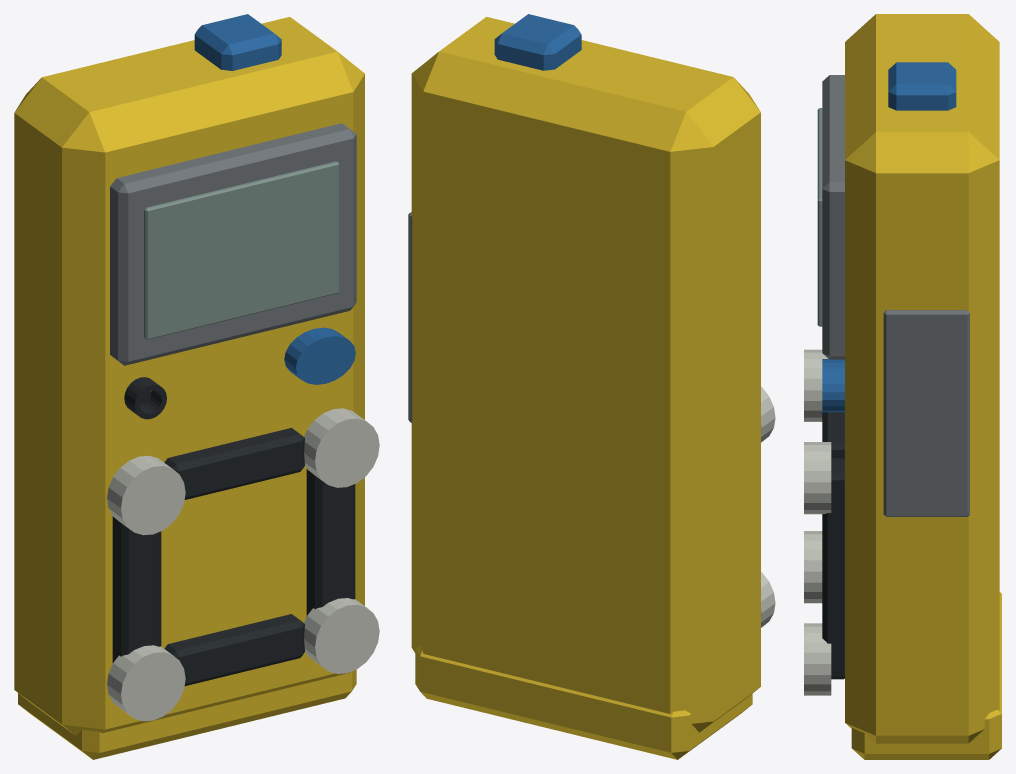
File: full.glb
The picture shows the model from 3 angles, left to right: view 1: azimuth 30°, elevation 25°; view 2: azimuth 150°, elevation 25°; view 3: azimuth 270°, elevation 25°; orthographic projection. The views are drawn at different scales.
Visible parts, largest first — view 1: Detector main shell, Inset blank LCD, Gray display bezel, Bottom bumper, Lower surround side 1, Lower surround side -1, Interrupted surround cross 0.019, Interrupted surround cross 0.063, Pale circular sensor cover 2, Pale circular sensor cover 3, Pale circular sensor cover 0, Pale circular sensor cover 1 (+3 smaller); view 2: Detector main shell, Bottom bumper, Small blue top projection, Narrow side inset; view 3: Detector main shell, Narrow side inset, Gray display bezel, Lower surround side 1, Bottom bumper, Small blue top projection, Pale circular sensor cover 3, Pale circular sensor cover 1, Pale circular sensor cover 2, Pale circular sensor cover 0, Inset blank LCD, Blue oval button (+1 smaller).
Boxes of the visible parts, left/top/right/bottom form: Detector main shell: left=14, top=17, right=364, bottom=735; Inset blank LCD: left=144, top=161, right=339, bottom=339; Gray display bezel: left=110, top=123, right=356, bottom=365; Bottom bumper: left=18, top=669, right=356, bottom=759; Lower surround side 1: left=306, top=469, right=355, bottom=616; Lower surround side -1: left=112, top=516, right=161, bottom=663; Interrupted surround cross 0.019: left=164, top=614, right=304, bottom=685; Interrupted surround cross 0.063: left=164, top=428, right=304, bottom=499; Pale circular sensor cover 2: left=107, top=455, right=185, bottom=535; Pale circular sensor cover 3: left=304, top=408, right=379, bottom=487; Pale circular sensor cover 0: left=107, top=645, right=185, bottom=721; Pale circular sensor cover 1: left=304, top=598, right=379, bottom=673; Detector main shell: left=411, top=16, right=760, bottom=732; Bottom bumper: left=415, top=645, right=752, bottom=759; Small blue top projection: left=494, top=14, right=581, bottom=70; Narrow side inset: left=408, top=212, right=412, bottom=422; Detector main shell: left=845, top=14, right=999, bottom=743; Narrow side inset: left=883, top=310, right=969, bottom=516; Gray display bezel: left=822, top=75, right=844, bottom=359; Lower surround side 1: left=822, top=458, right=844, bottom=679; Bottom bumper: left=851, top=592, right=1001, bottom=759; Small blue top projection: left=888, top=62, right=956, bottom=110; Pale circular sensor cover 3: left=804, top=442, right=831, bottom=514; Pale circular sensor cover 1: left=804, top=623, right=831, bottom=695; Pale circular sensor cover 2: left=804, top=349, right=827, bottom=421; Pale circular sensor cover 0: left=804, top=531, right=822, bottom=603; Inset blank LCD: left=817, top=108, right=822, bottom=326; Blue oval button: left=822, top=359, right=844, bottom=412.
Bounding box in the file's own units: 0.076 × 0.1575 × 0.0435.
